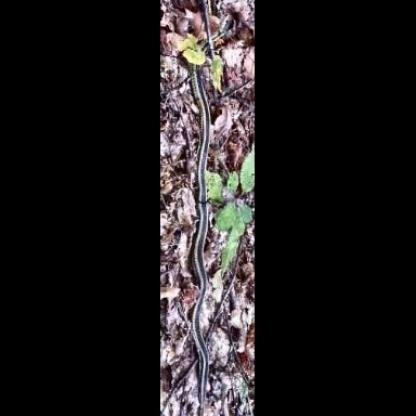Snake: (188, 14, 234, 402)
